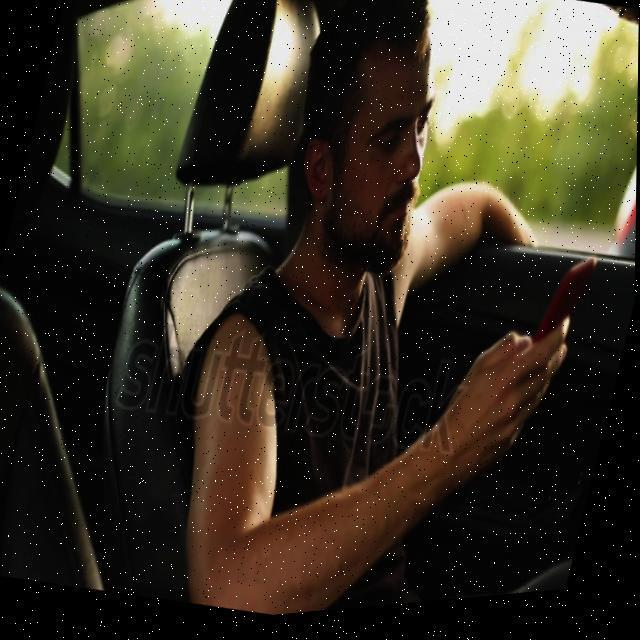PhoneCall: (525, 255, 599, 387)
